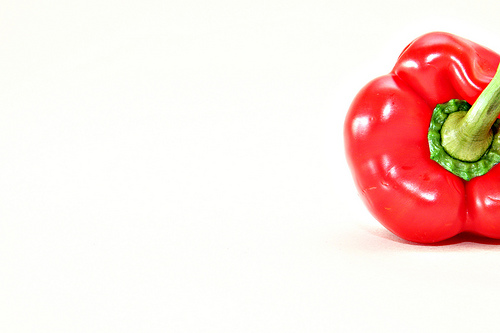capsicum: (344, 30, 499, 245)
